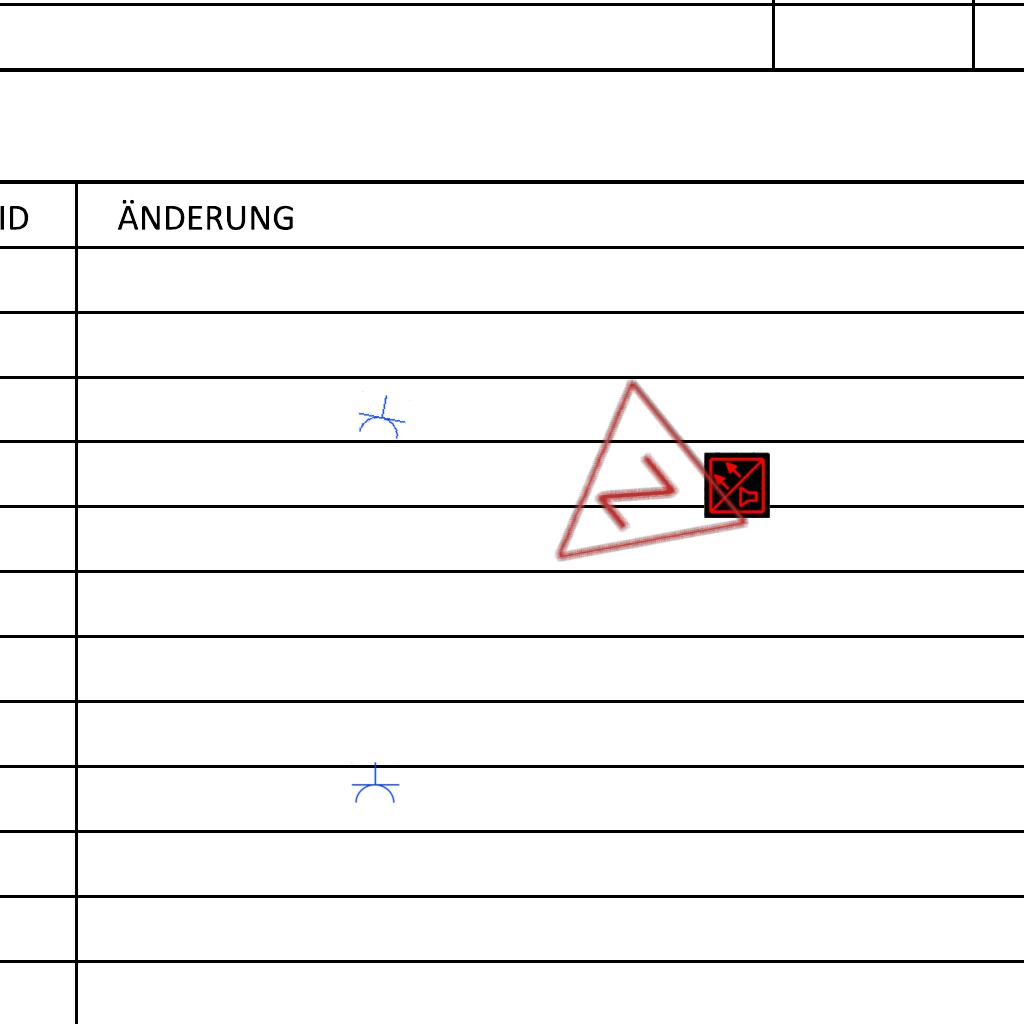OKW_Multisensormelder_(Kombination_optischer_Rauch-Kahlenmonoxid_Waerme-Melder): (704, 452, 770, 518)
Schukosteckdose_einfach: (353, 390, 411, 443), (350, 762, 400, 805)
Zimmersignalleuchte: (486, 366, 766, 646)
